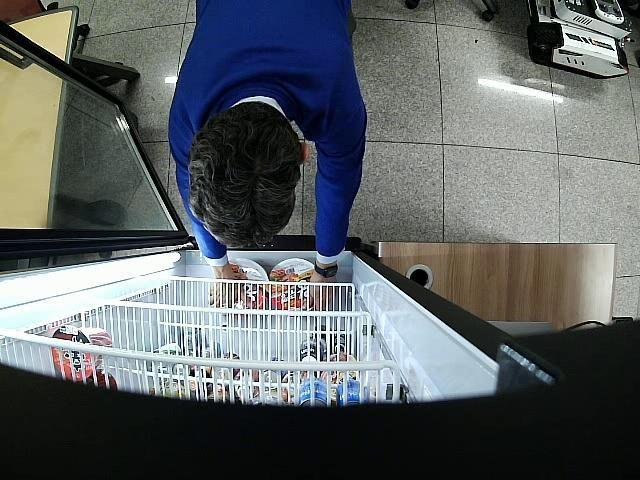10_wangTtukkeong: (270, 258, 316, 318), (230, 257, 270, 309)
